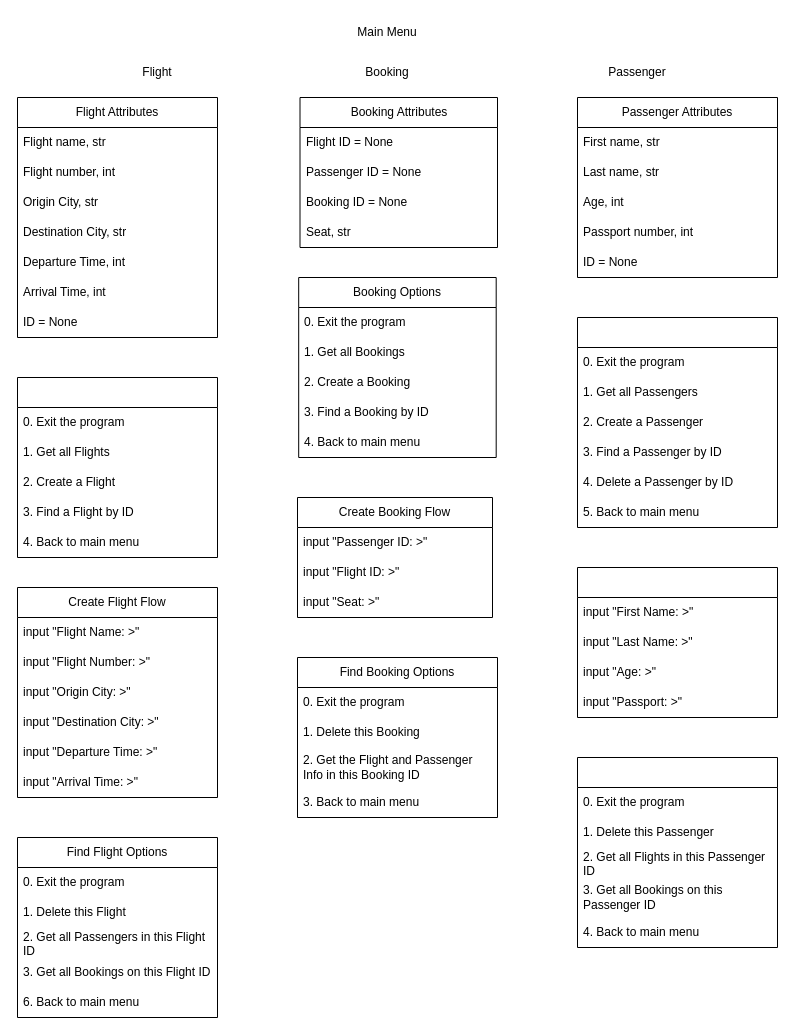
Image size: 795x1035. Some labels were removed from this diagram. Each missing label, with the box of its shape:
Create Passenger Flow: (576, 566, 778, 718)
Find Passenger Options: (576, 756, 778, 948)
Flight Options: (16, 376, 218, 558)
Passenger Options: (576, 316, 778, 528)
